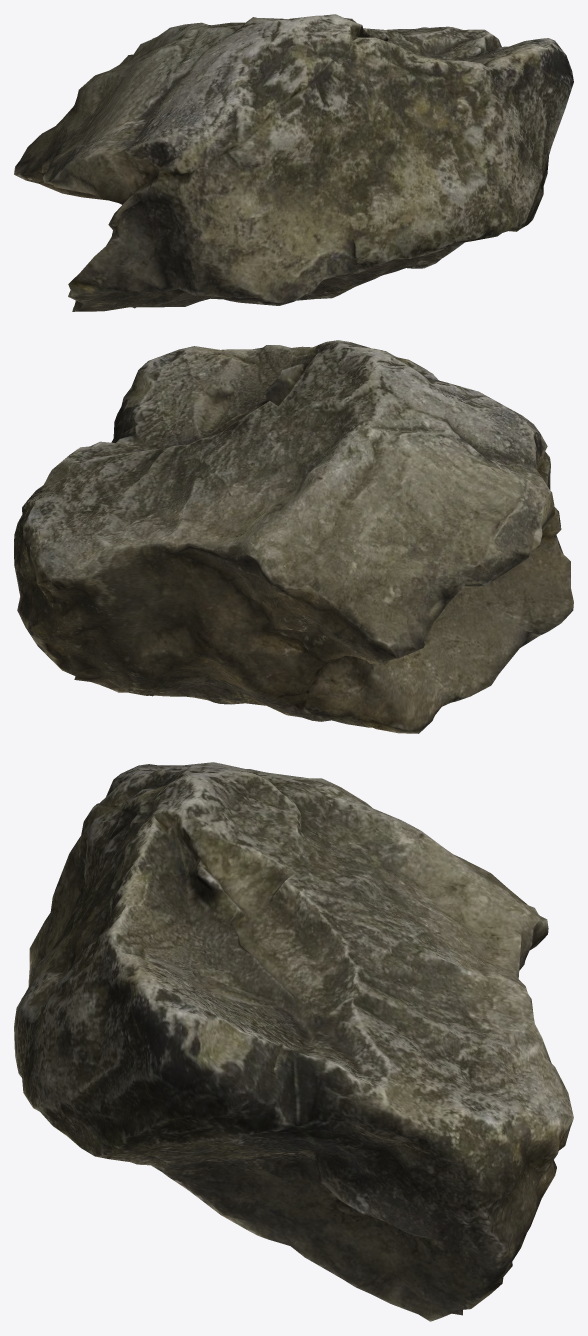
File: rock_moss_02_r11.glb
3 views of the same model, one above another, from view 1: azimuth 30°, elevation 25°; view 2: azimuth 150°, elevation 25°; view 3: azimuth 270°, elevation 25° (orthographic). The views are drawn at different scales.
Visible parts, largest first — view 1: rock_moss_02_r11_LOD0; view 2: rock_moss_02_r11_LOD0; view 3: rock_moss_02_r11_LOD0.
Part boxes in pixels (<box>): rock_moss_02_r11_LOD0: <box>14,14,573,311</box>; rock_moss_02_r11_LOD0: <box>14,340,573,733</box>; rock_moss_02_r11_LOD0: <box>14,762,573,1321</box>.
Size of what is drawn, in the model's own units: 1.95 by 1.31 by 1.53.
1 material, 1 textured.
